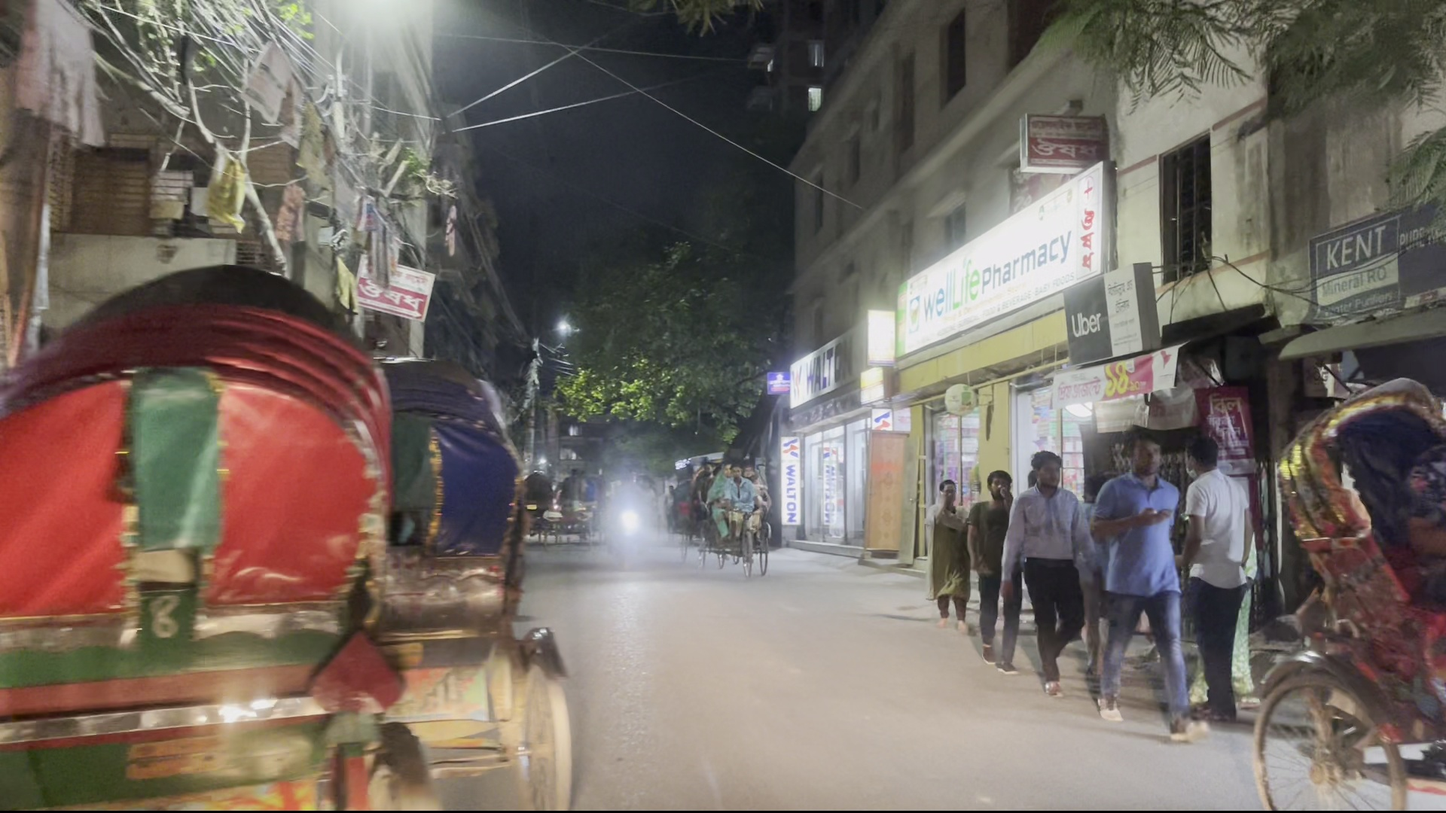person: (1091, 423, 1210, 744), (1174, 431, 1259, 726), (1000, 448, 1084, 698), (971, 467, 1027, 675), (926, 476, 971, 633)
